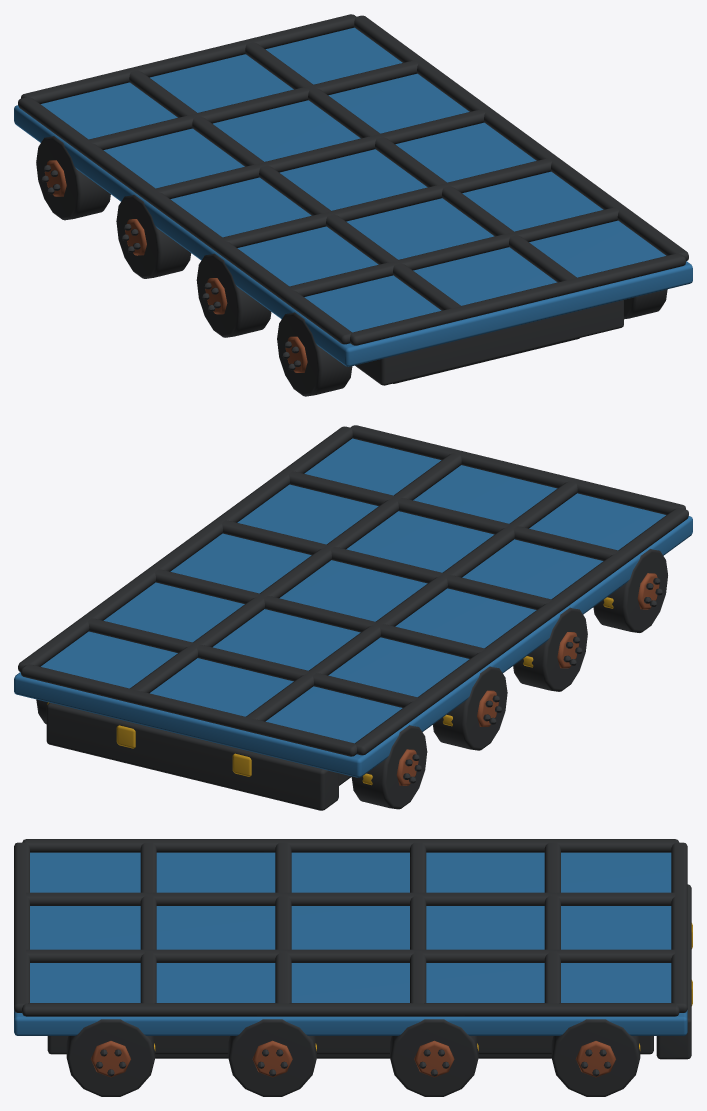
The model's file is chassis-3x5.glb.
3 renders of one model, top to bottom at view 1: azimuth 30°, elevation 25°; view 2: azimuth 150°, elevation 25°; view 3: azimuth 270°, elevation 25°, orthographic.
Parts seen in each view (by area): view 1: rig-body, wheel_l0, wheel_l3, wheel_l2, wheel_l1, wheel_r0; view 2: rig-body, wheel_l3, wheel_l0, wheel_l2, wheel_l1; view 3: rig-body, wheel_r0, wheel_r3, wheel_r1, wheel_r2.
Boxes of the visible parts, bbox=[...] form: rig-body: bbox=[14, 14, 692, 385]; wheel_l0: bbox=[277, 312, 352, 396]; wheel_l3: bbox=[36, 136, 110, 220]; wheel_l2: bbox=[116, 195, 191, 278]; wheel_l1: bbox=[196, 253, 271, 337]; wheel_r0: bbox=[624, 289, 667, 319]; rig-body: bbox=[14, 425, 692, 810]; wheel_l3: bbox=[351, 725, 427, 809]; wheel_l0: bbox=[593, 549, 667, 632]; wheel_l2: bbox=[433, 666, 507, 750]; wheel_l1: bbox=[513, 607, 587, 691]; rig-body: bbox=[14, 839, 692, 1059]; wheel_r0: bbox=[66, 1019, 155, 1096]; wheel_r3: bbox=[551, 1019, 640, 1096]; wheel_r1: bbox=[228, 1019, 316, 1096]; wheel_r2: bbox=[390, 1019, 478, 1096].
Bounding box in the file's own units: 3.18 × 0.74 × 5.04.
